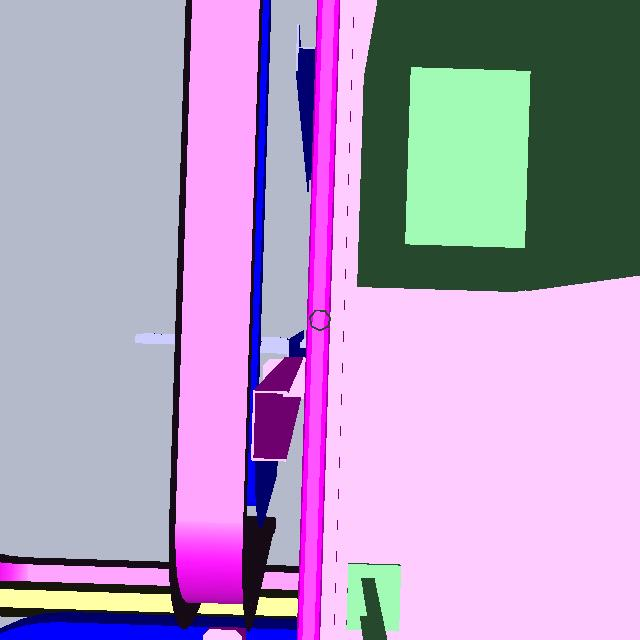Poste: (298, 309, 344, 341)
Soporte: (246, 349, 348, 469)
